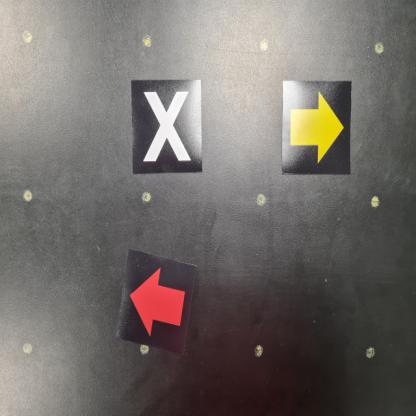left: (118, 249, 199, 356)
right: (282, 79, 353, 179)
x: (131, 78, 203, 177)
